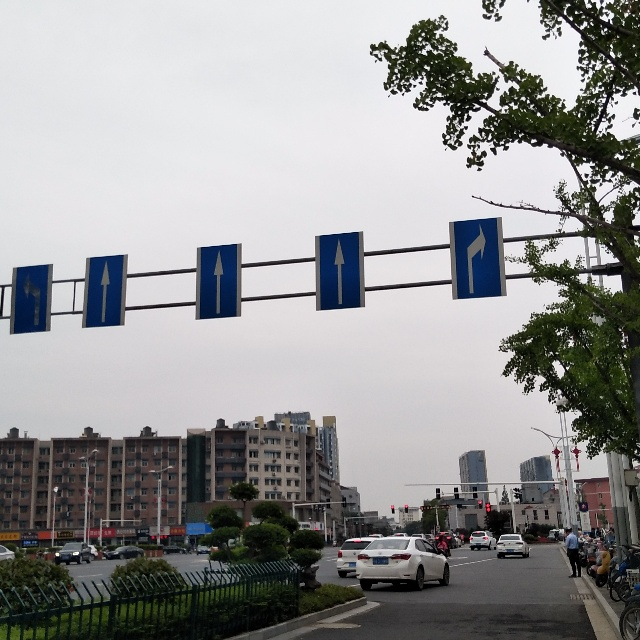left: (16, 268, 45, 328)
right: (457, 221, 494, 298)
straight: (203, 242, 234, 319), (322, 239, 358, 304), (90, 254, 122, 326)
